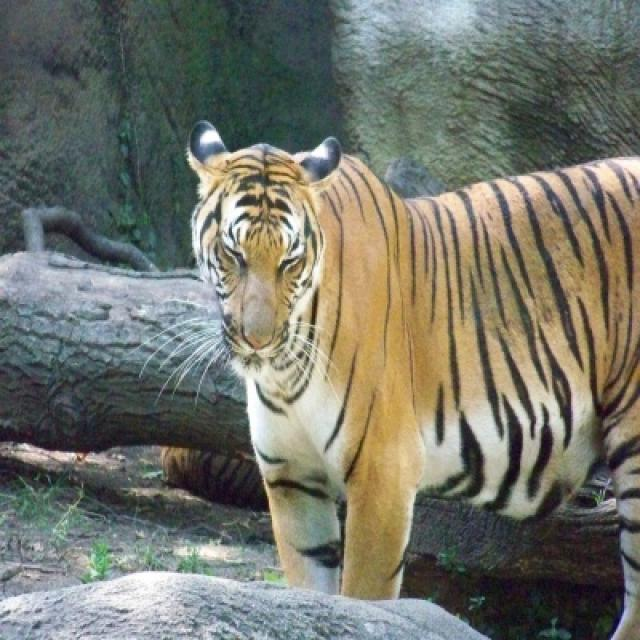Tiger: (184, 114, 638, 638)
